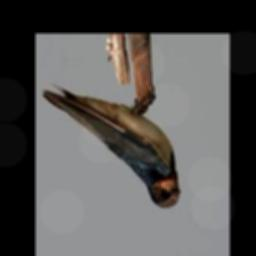Swallow: (42, 86, 180, 206)
